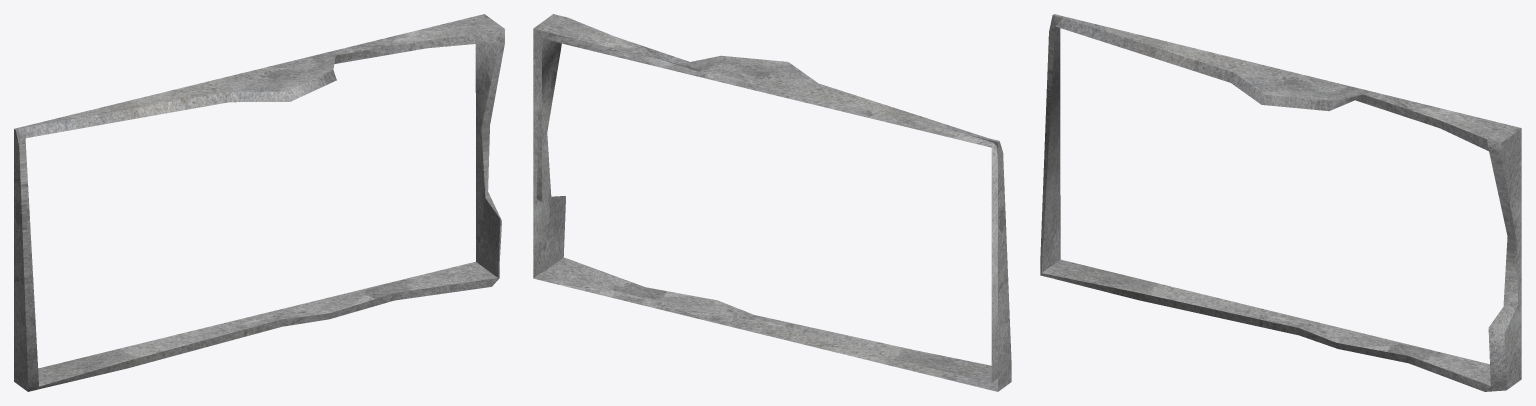
File: dachgeschoss.obj
3 views of the same model, side by side, from view 1: azimuth 30°, elevation 25°; view 2: azimuth 150°, elevation 25°; view 3: azimuth 330°, elevation 25° (orthographic).
Parts seen in each view (by area): view 1: pCube1; view 2: pCube1; view 3: pCube1.
Boxes of the visible parts, x1,y1,x2,y2 form: pCube1: (14,14,504,391); pCube1: (533,14,1011,391); pCube1: (1040,14,1521,391).
Size of the model in its own units: 32.64 by 16.77 by 4.05.
Materials: 1 (1 with a texture image).
